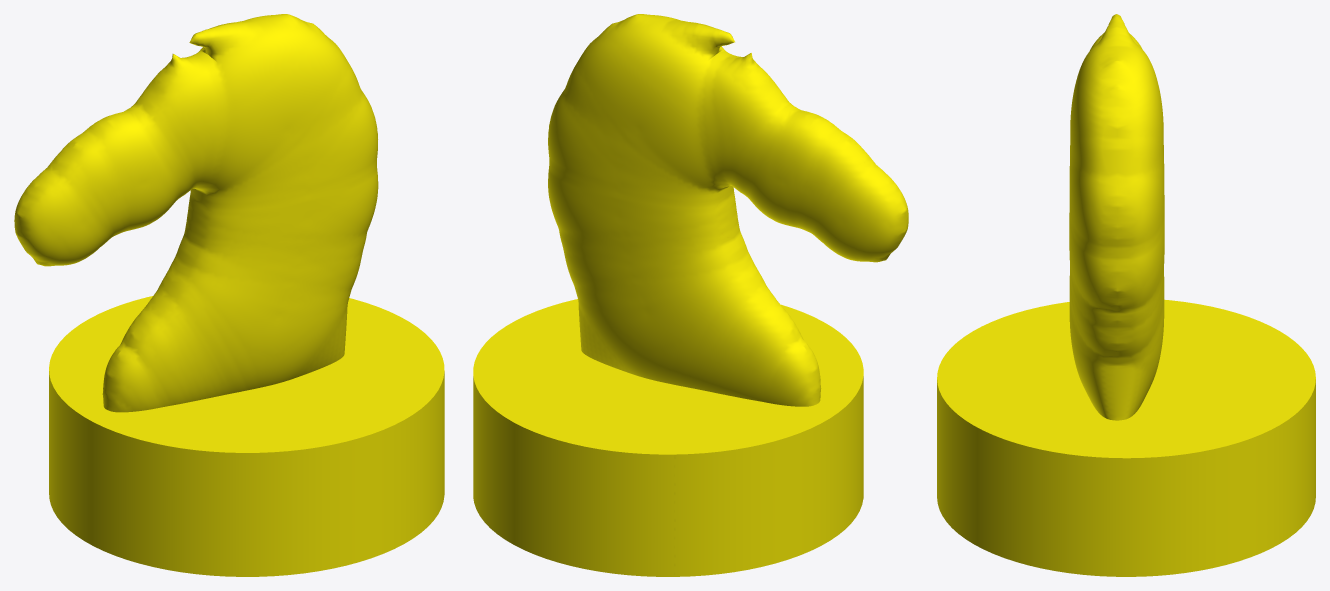
The model's file is knight.fbx.
3 renders of one model, left to right at view 1: azimuth 30°, elevation 25°; view 2: azimuth 150°, elevation 25°; view 3: azimuth 270°, elevation 25°, orthographic. The views are drawn at different scales.
Parts seen in each view (by area): view 1: node_id8, node_id6; view 2: node_id8, node_id6; view 3: node_id6, node_id8.
Boxes of the visible parts, x1,y1,x2,y2 form: node_id8: [14, 14, 378, 412]; node_id6: [49, 296, 444, 576]; node_id8: [548, 14, 908, 406]; node_id6: [473, 299, 863, 576]; node_id6: [937, 299, 1315, 576]; node_id8: [1069, 14, 1164, 420].
Bounding box in the file's own units: 0.4545 × 0.512 × 0.3838.
Materials: 2 (2 with a texture image).
